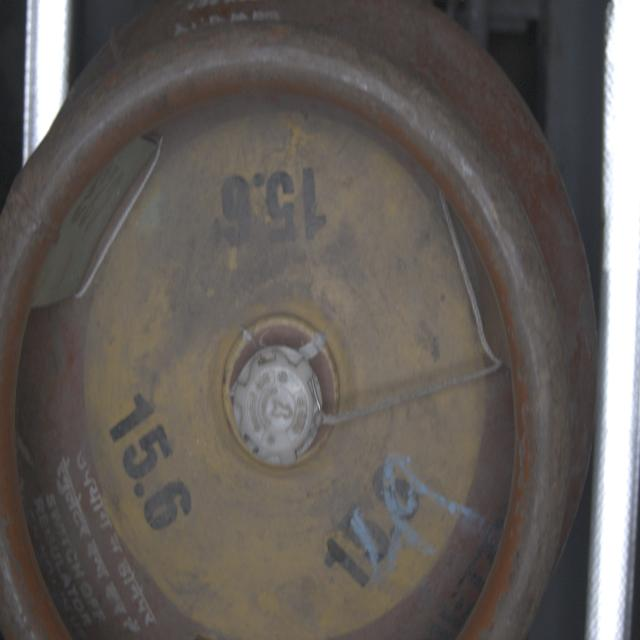Cap: (234, 340, 327, 473)
